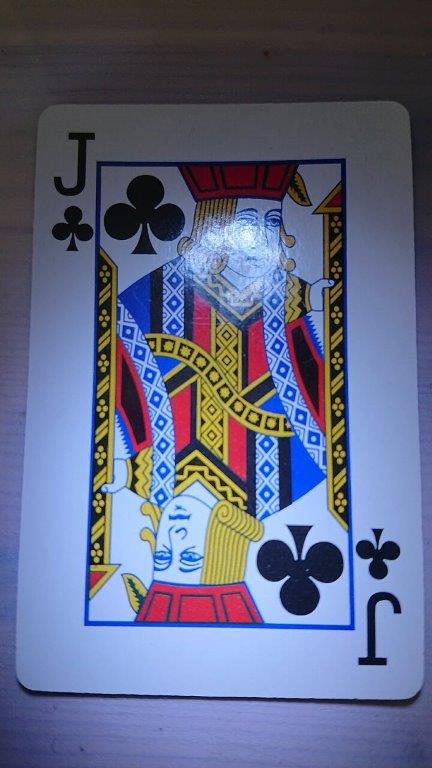JC: (12, 99, 427, 706)
